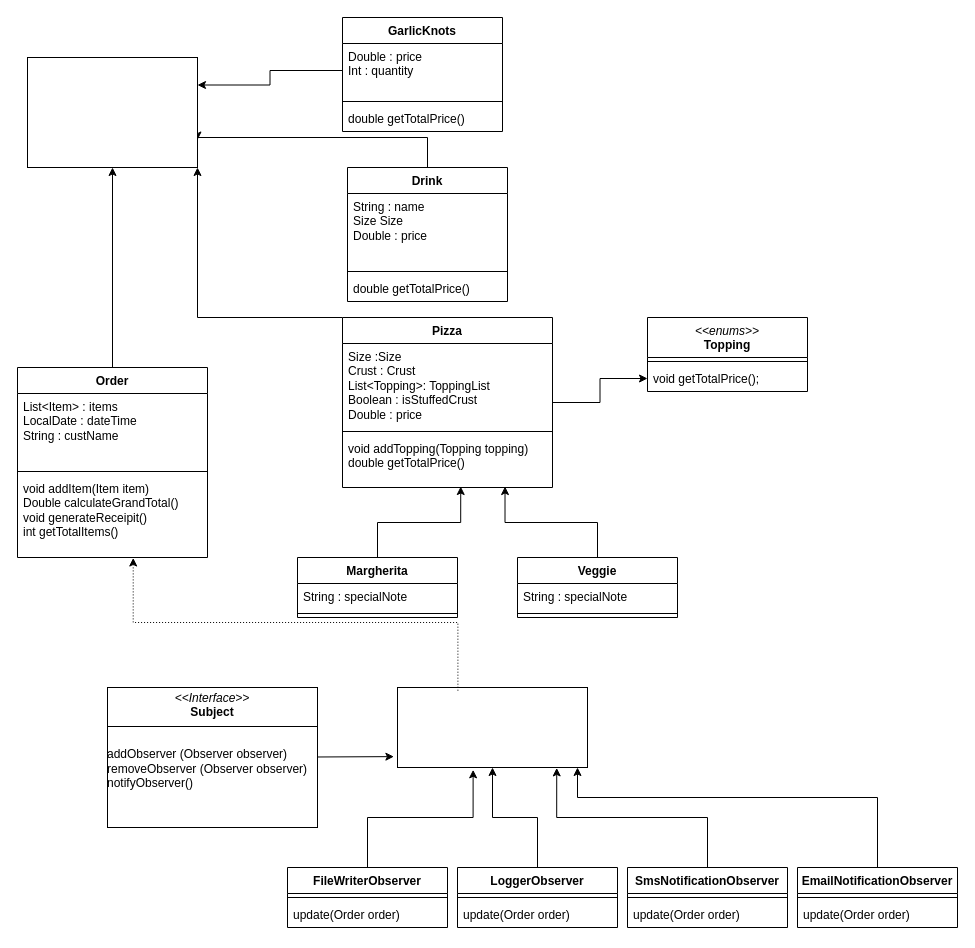
This 975x948 diagram has some shape labels left out. Each missing label, with the centre of its shape:
"<<abstract>> Item String: name int : quantity abstract double getTotalPrice()" belongs at point 112,112.
"<<Interface>> Observer update(Order order)" belongs at point 492,727.
